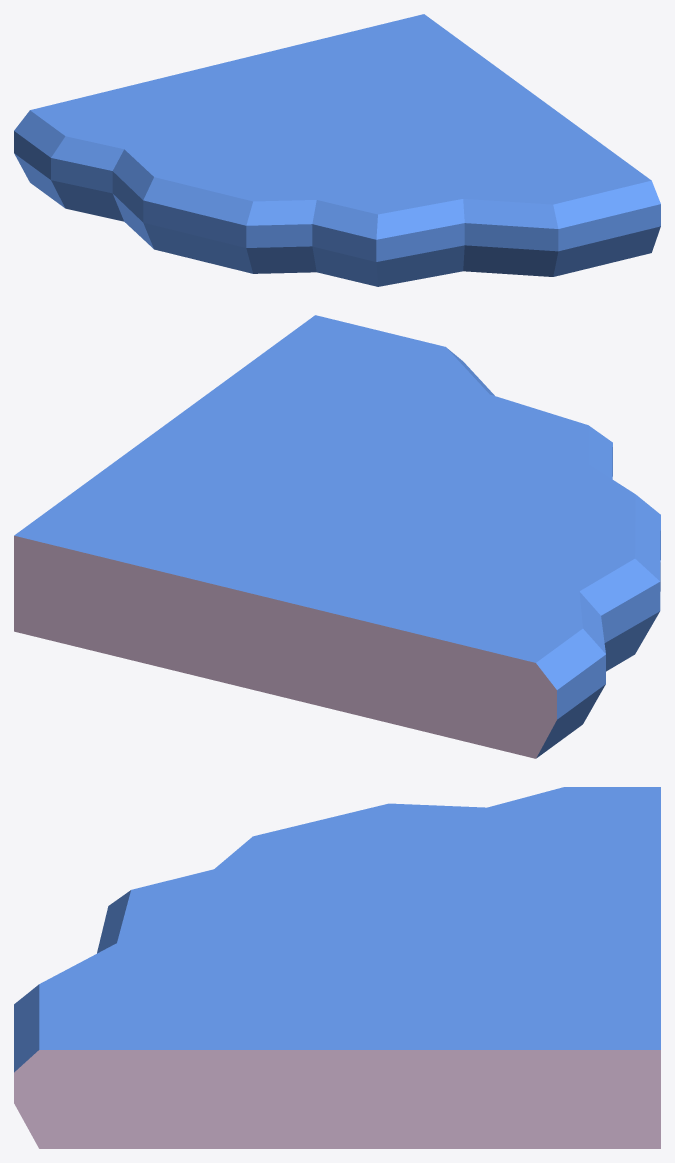
Rendered from Iceberg_Curve_Outer_3x3_1.fbx.
3 renders of one model, top to bottom at view 1: azimuth 30°, elevation 25°; view 2: azimuth 150°, elevation 25°; view 3: azimuth 270°, elevation 25°, orthographic. The views are drawn at different scales.
Visible parts, largest first — view 1: Iceberg_Curve_Outer_3x3_1; view 2: Iceberg_Curve_Outer_3x3_1; view 3: Iceberg_Curve_Outer_3x3_1.
Part boxes in pixels (<box>): Iceberg_Curve_Outer_3x3_1: <box>14,14,660,286</box>; Iceberg_Curve_Outer_3x3_1: <box>14,315,660,758</box>; Iceberg_Curve_Outer_3x3_1: <box>14,787,660,1148</box>.
Bounding box in the file's own units: 241 × 40.63 × 241.
